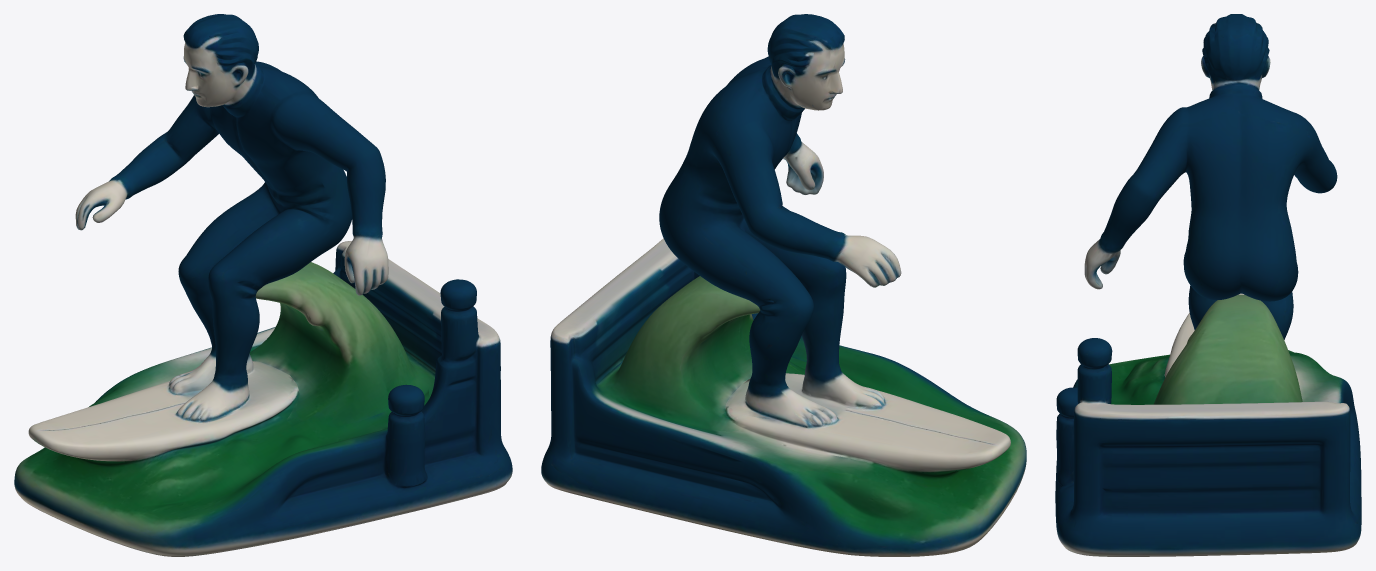
Rendered from compressed_1763493199262_matchasurf.glb.
3 renders of one model, left to right at view 1: azimuth 30°, elevation 25°; view 2: azimuth 150°, elevation 25°; view 3: azimuth 270°, elevation 25°, orthographic. The views are drawn at different scales.
Parts seen in each view (by area): view 1: material; view 2: material; view 3: material.
Part boxes in pixels (<box>): material: <box>14,14,512,556</box>; material: <box>541,14,1026,556</box>; material: <box>1055,14,1361,556</box>.
Bounding box in the file's own units: 0.7805 × 0.8393 × 0.5314.
1 material, 1 textured.
